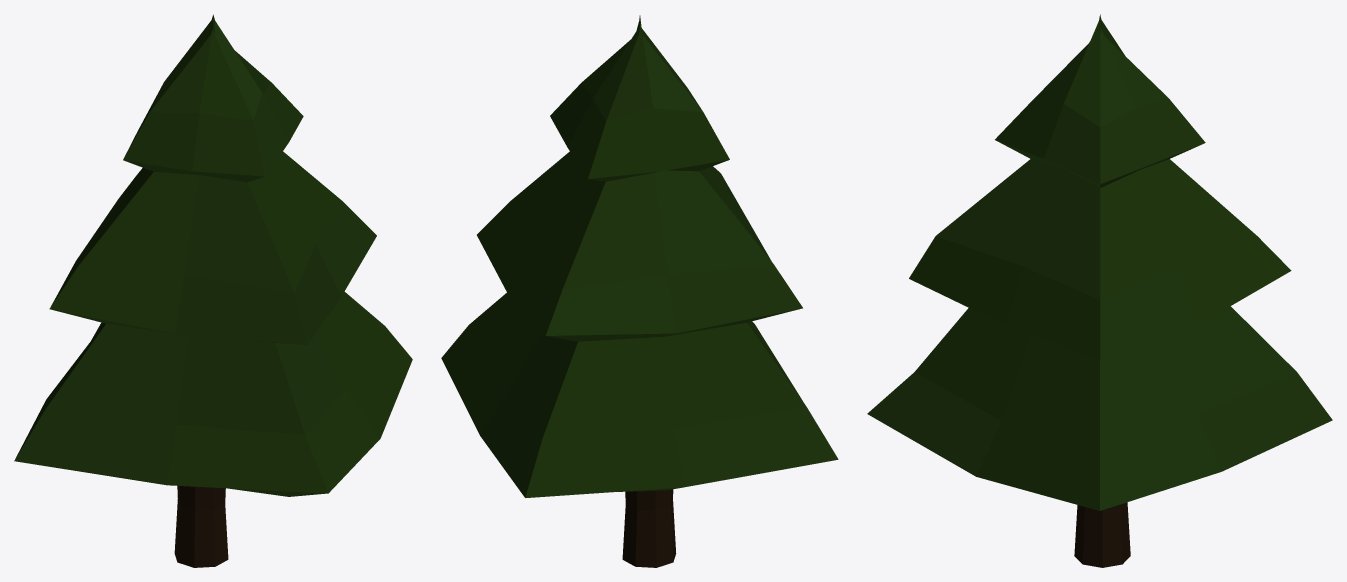
The model's file is tree.obj.
The picture shows the model from 3 angles, left to right: view 1: azimuth 30°, elevation 25°; view 2: azimuth 150°, elevation 25°; view 3: azimuth 270°, elevation 25°; orthographic projection.
Parts seen in each view (by area): view 1: Tree_Leaves, Tree_Trunk; view 2: Tree_Leaves, Tree_Trunk; view 3: Tree_Leaves, Tree_Trunk.
Boxes of the visible parts, bbox=[...] form: Tree_Leaves: bbox=[14, 14, 412, 496]; Tree_Trunk: bbox=[174, 486, 228, 567]; Tree_Leaves: bbox=[441, 15, 838, 497]; Tree_Trunk: bbox=[622, 489, 676, 567]; Tree_Leaves: bbox=[867, 14, 1332, 510]; Tree_Trunk: bbox=[1074, 502, 1130, 567].
Size of the model in its own units: 3.61 by 4.67 by 3.61.
